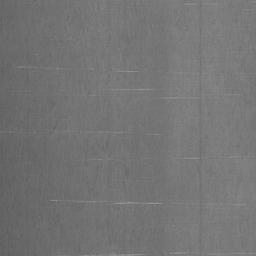Waist folding: (0, 125, 161, 137), (0, 64, 162, 74), (64, 248, 256, 256), (50, 198, 193, 207), (184, 0, 256, 7), (184, 155, 256, 161), (85, 87, 154, 92), (161, 96, 199, 101), (90, 157, 124, 162), (234, 203, 256, 207)
